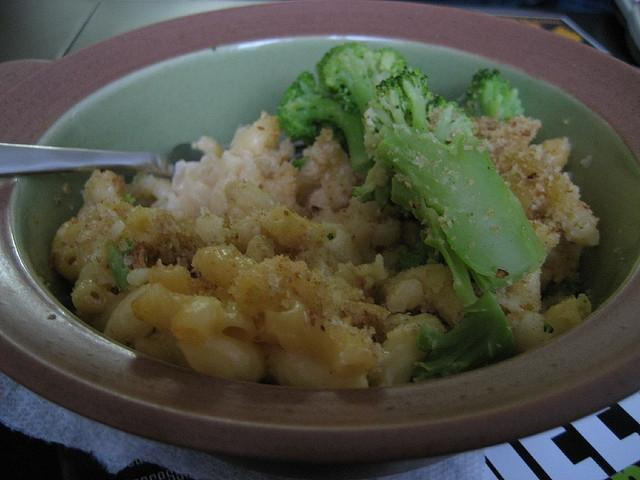broccoli: (352, 66, 547, 306), (278, 42, 407, 179), (406, 290, 516, 382), (464, 67, 523, 119), (102, 238, 139, 292)
